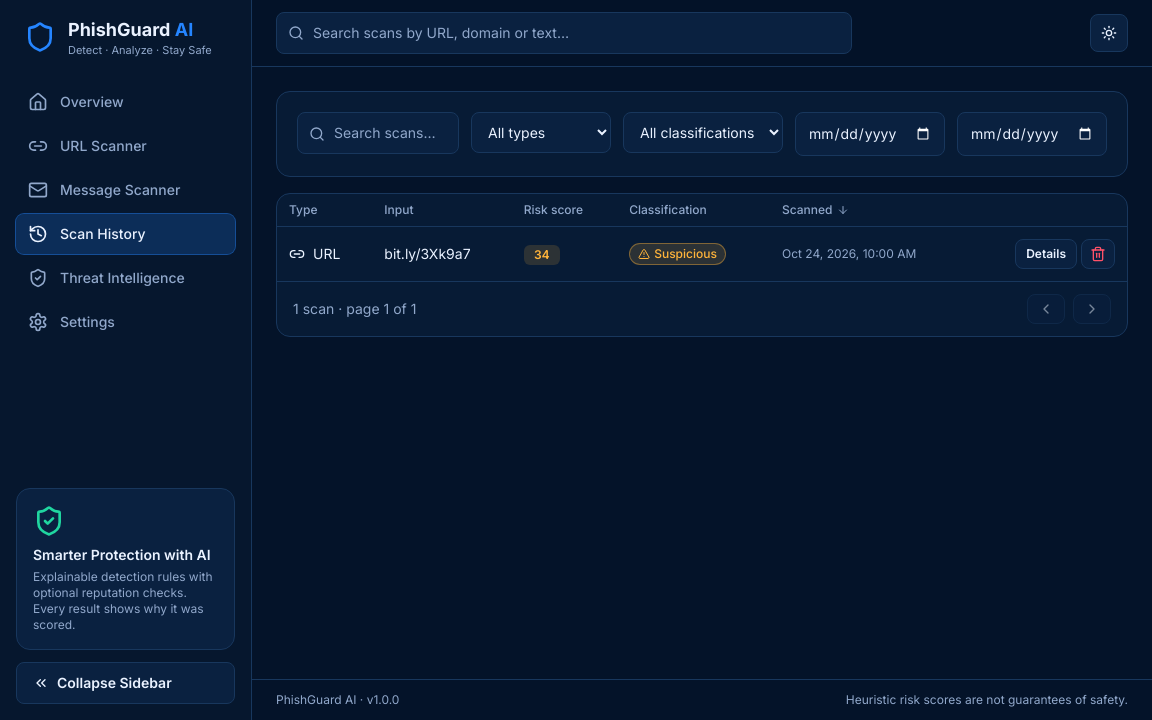
Test case: history › filters through the API, paginates and deletes after confirmation
The image size is (1152, 720).
Expected: the link "bit.ly/3Xk9a7" is shown, [384,245,470,262]
Select "High risk" in the 2nd dropdown named "Classification" at (703, 132), box [623,112,783,153]
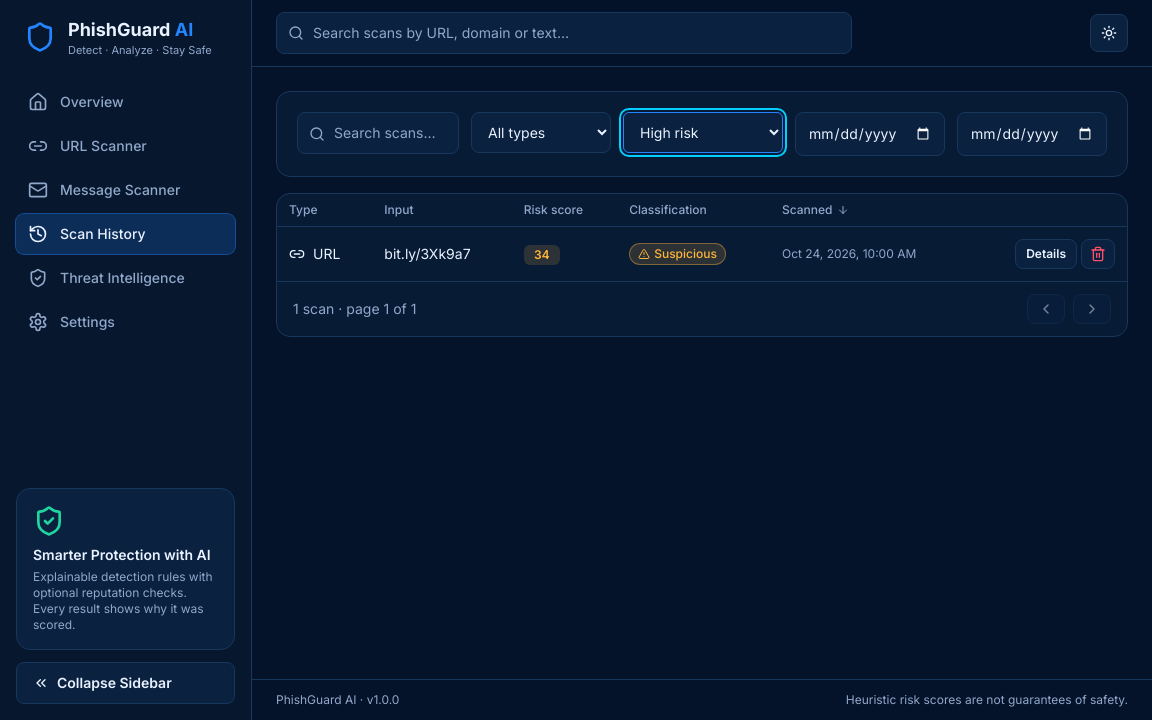
Click the button "Risk score" at (553, 210), box [524,202,583,218]
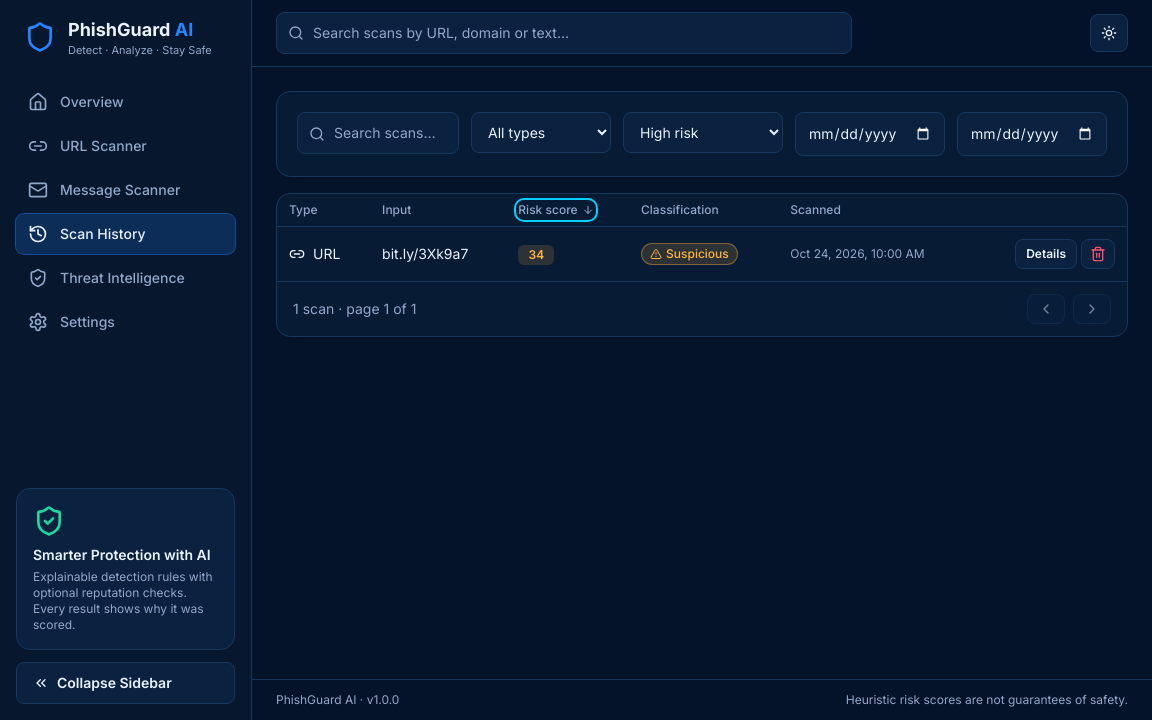
Click the button named "Delete scan of bit.ly" at (1098, 254), box [1081,239,1115,269]
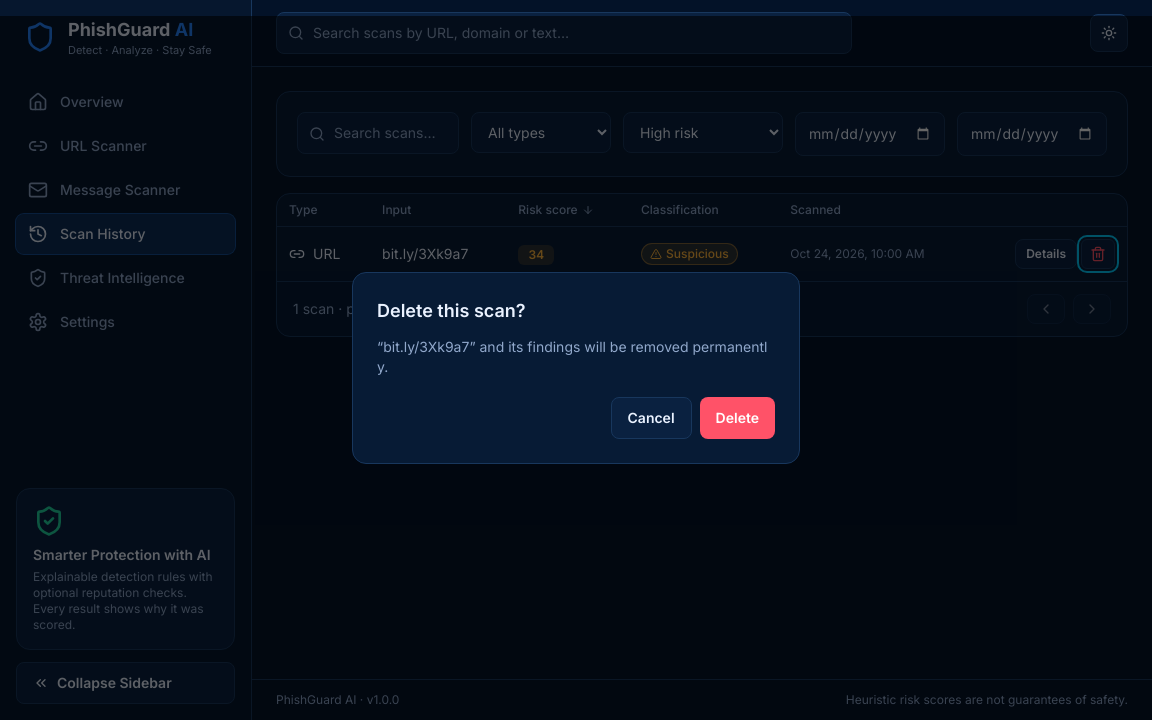
Click the button "Delete" at (737, 418), box [700,397,775,439]
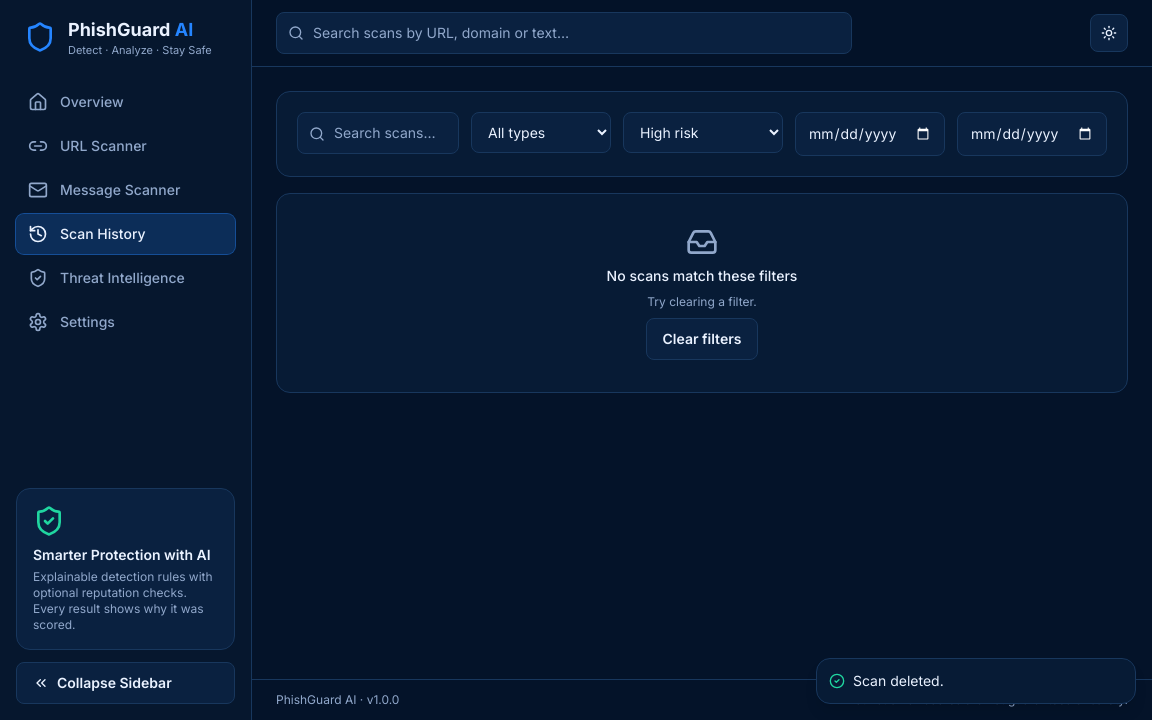
Result: the text "No scans match these filters" is shown at [607,266,797,286]
